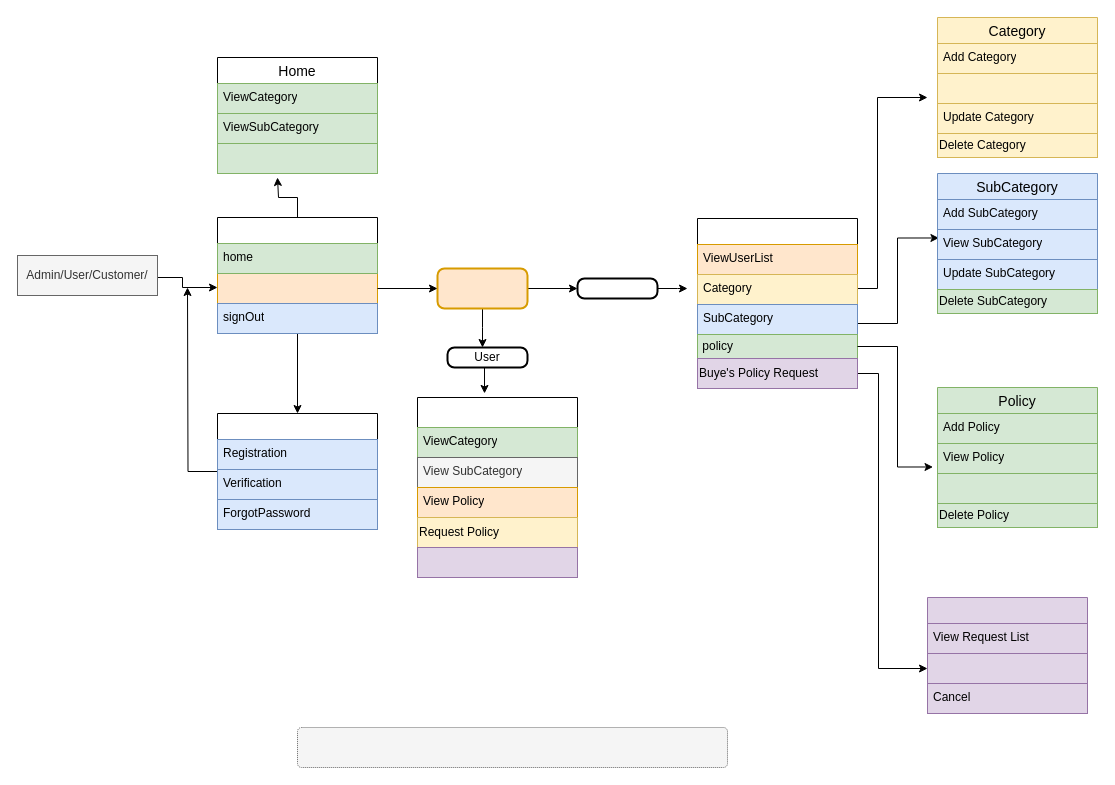
This 1115x785 diagram has some shape labels left out. The shapes that lost their labels are listed below. From the top down, each one's box as (x1, y1, x2, y2) in pixels, then its label:
(936, 72, 1098, 104): View Category
(216, 142, 378, 174): ViewPolicy
(216, 216, 378, 334): HomePage
(216, 272, 378, 304): signIn
(436, 267, 528, 309): signIn User/Admin
(576, 277, 658, 299): Admin
(696, 218, 858, 358): AdminPage
(216, 412, 378, 530): registrationPage
(416, 396, 578, 548): UserDashBoard
(936, 472, 1098, 504): UpDate Policy
(416, 546, 578, 578): View Policy Hold
(926, 596, 1088, 714): Buyer'Policy Request
(926, 652, 1088, 684): Activate
(296, 726, 728, 768): Insurance Management System Application
